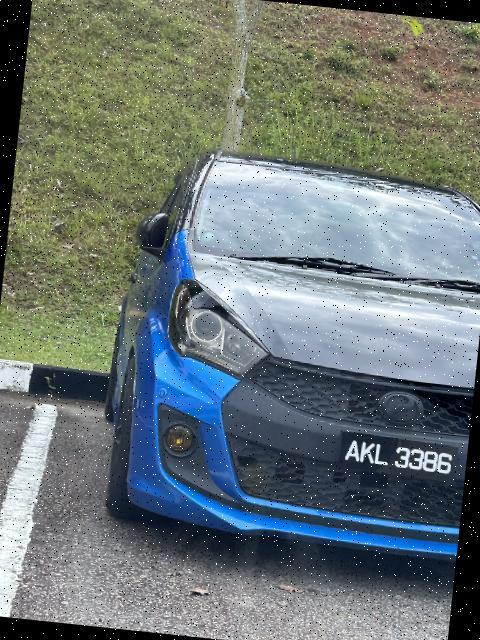AKL3386: (341, 429, 459, 483)
License_Plate: (341, 429, 459, 483)
car: (91, 136, 480, 567)
